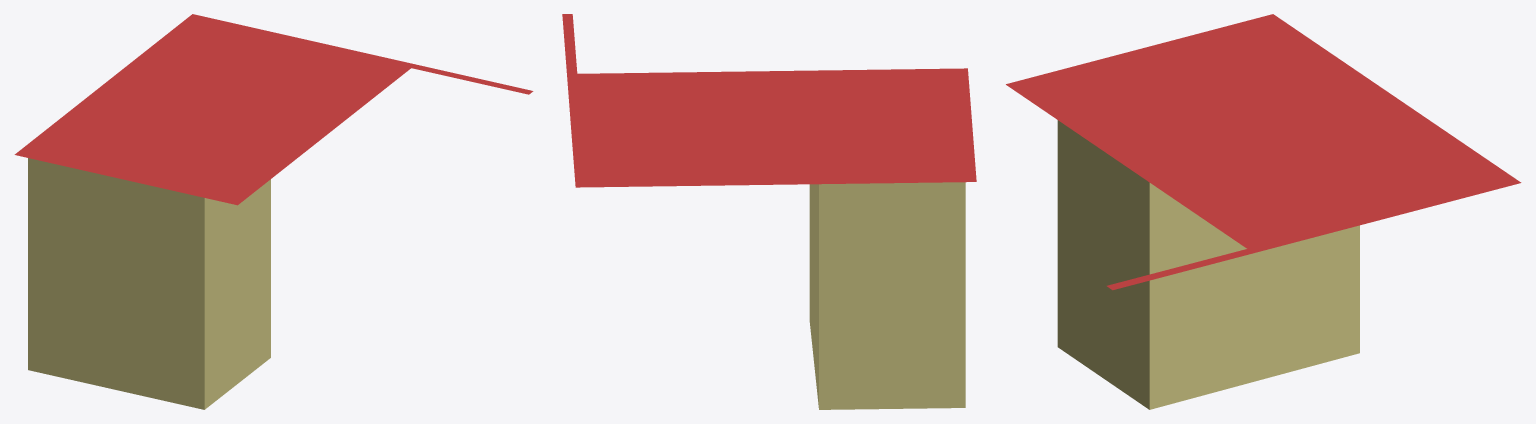
3 views of the same model, side by side, from view 1: azimuth 30°, elevation 25°; view 2: azimuth 150°, elevation 25°; view 3: azimuth 270°, elevation 25° (orthographic). The views are drawn at different scales.
Bounding box in the file's own units: 12.86 × 10.16 × 5.86.
